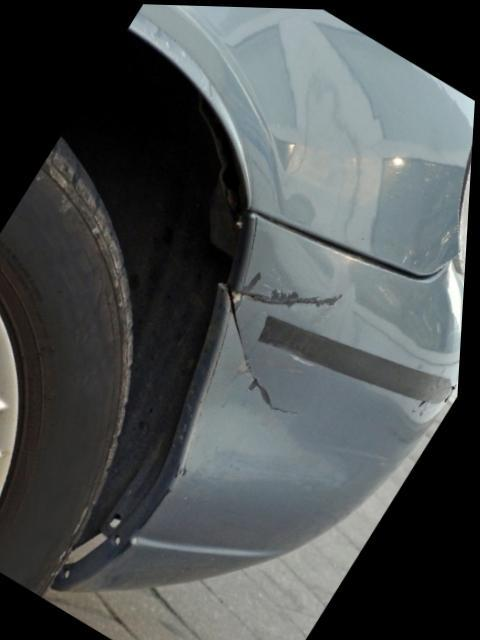crack: (230, 286, 345, 414)
